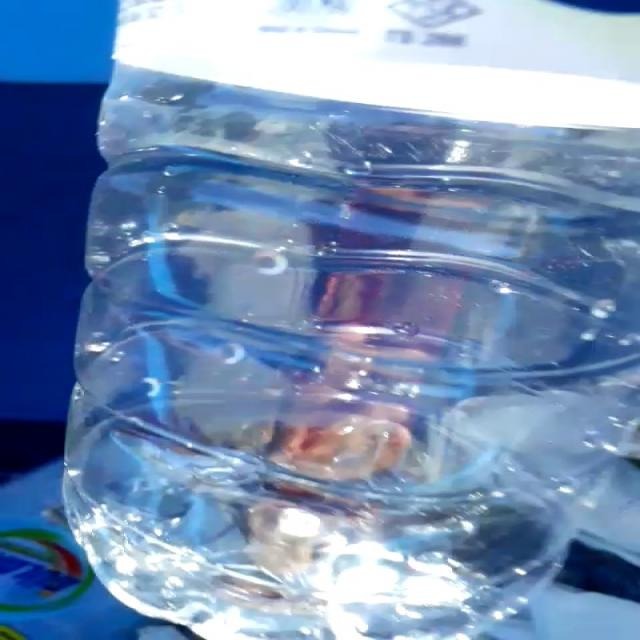plastic: (64, 0, 640, 640)
